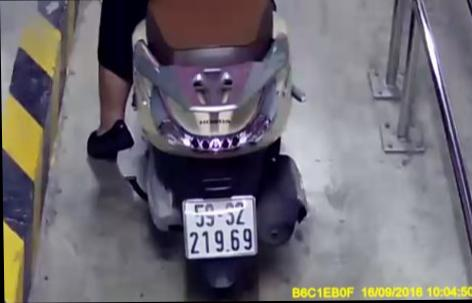LP: (180, 195, 259, 261)
